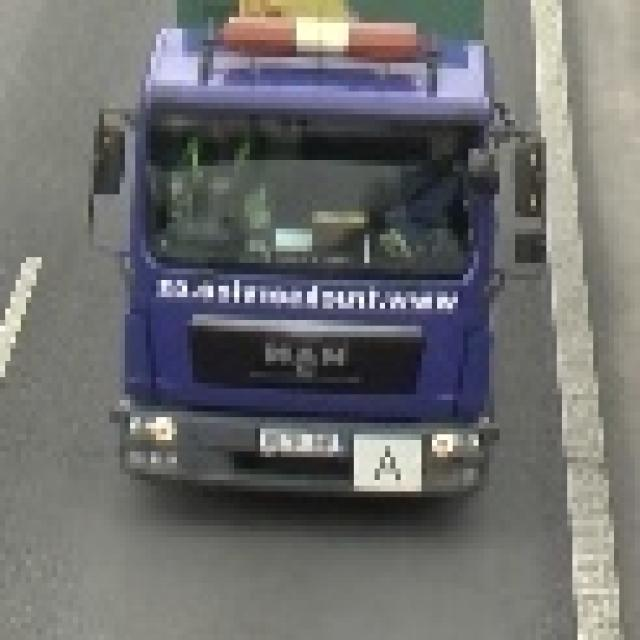truck: (89, 1, 542, 515)
